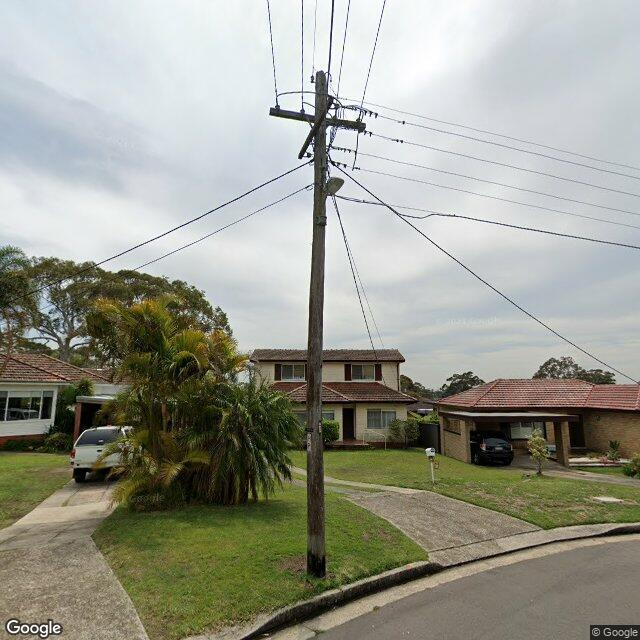crossarm: (268, 105, 367, 132), (298, 97, 336, 161)
streetlight: (318, 176, 345, 226)
timber-pole: (306, 69, 329, 578)
